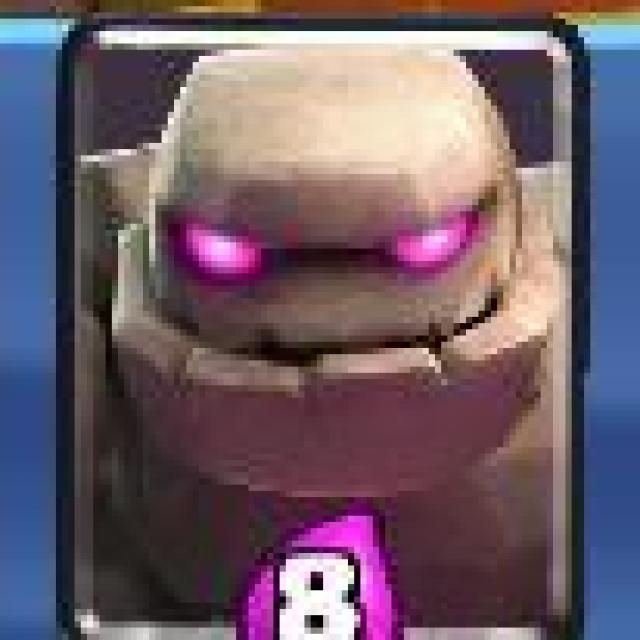Golem: (55, 11, 586, 640)
